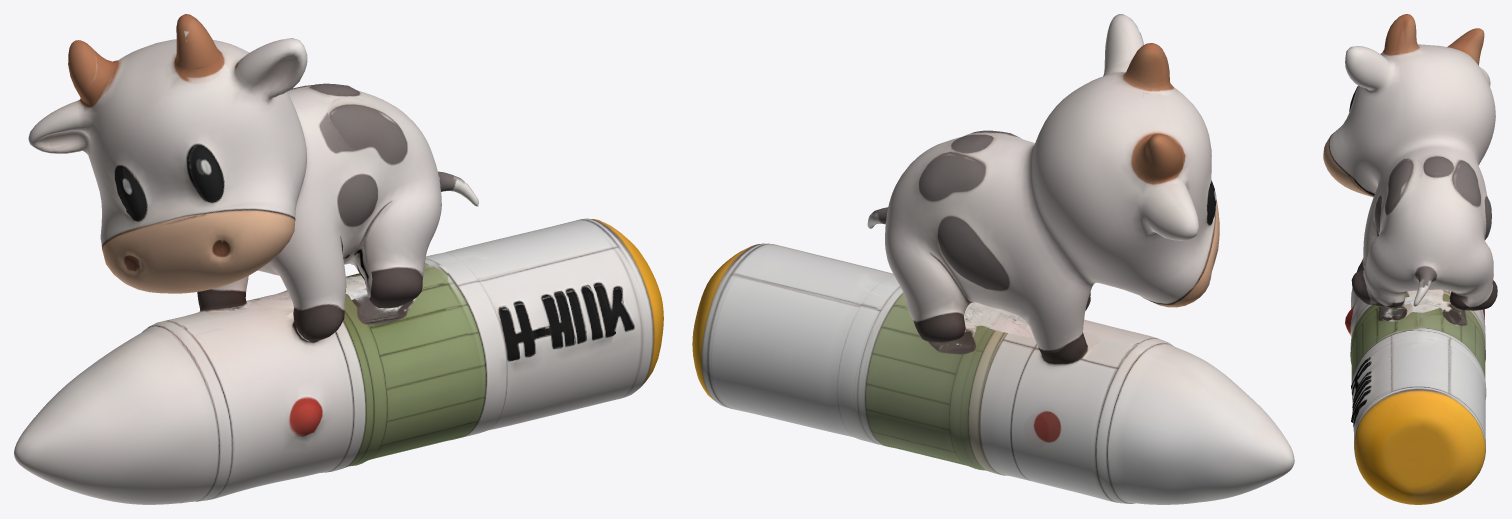
The model's file is Cow_Rocket_Adventure_1112064202_texture.fbx.
3 views of the same model, side by side, from view 1: azimuth 30°, elevation 25°; view 2: azimuth 150°, elevation 25°; view 3: azimuth 270°, elevation 25° (orthographic). The views are drawn at different scales.
Visible parts, largest first — view 1: Mesh0; view 2: Mesh0; view 3: Mesh0.
Boxes of the visible parts, box(x1,y1,x2,y2) form: Mesh0: box(14, 14, 663, 504); Mesh0: box(692, 14, 1294, 504); Mesh0: box(1323, 14, 1497, 504).
Bounding box in the file's own units: 191 × 143 × 65.59.
1 material, 1 textured.
